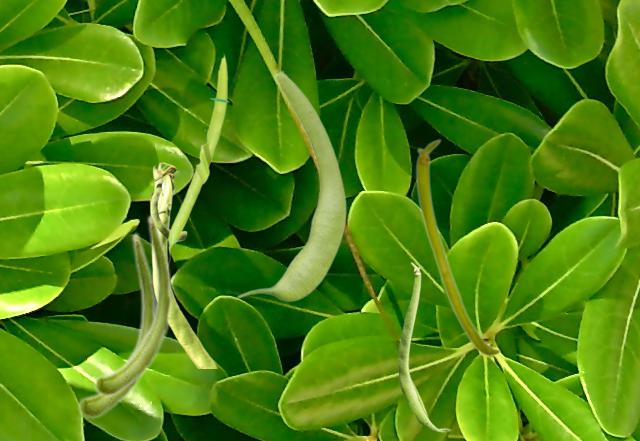french_bean: (236, 69, 346, 300), (415, 138, 500, 356), (93, 213, 172, 396), (77, 231, 154, 418), (149, 162, 216, 367), (167, 52, 229, 262), (398, 262, 450, 431)
